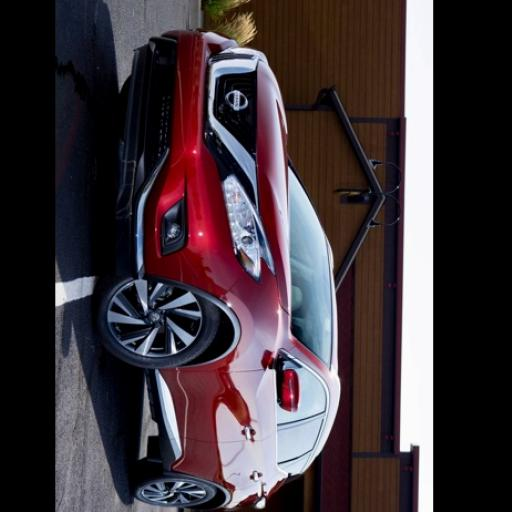suv: (95, 30, 340, 511)
